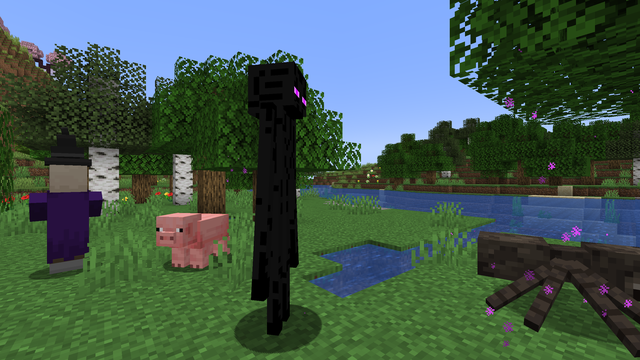araignees: (483, 223, 608, 342)
cochons: (171, 211, 231, 270)
endermens: (242, 46, 316, 349)
sorcieres: (40, 159, 90, 277)
